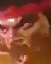ryu: (0, 7, 43, 58)
